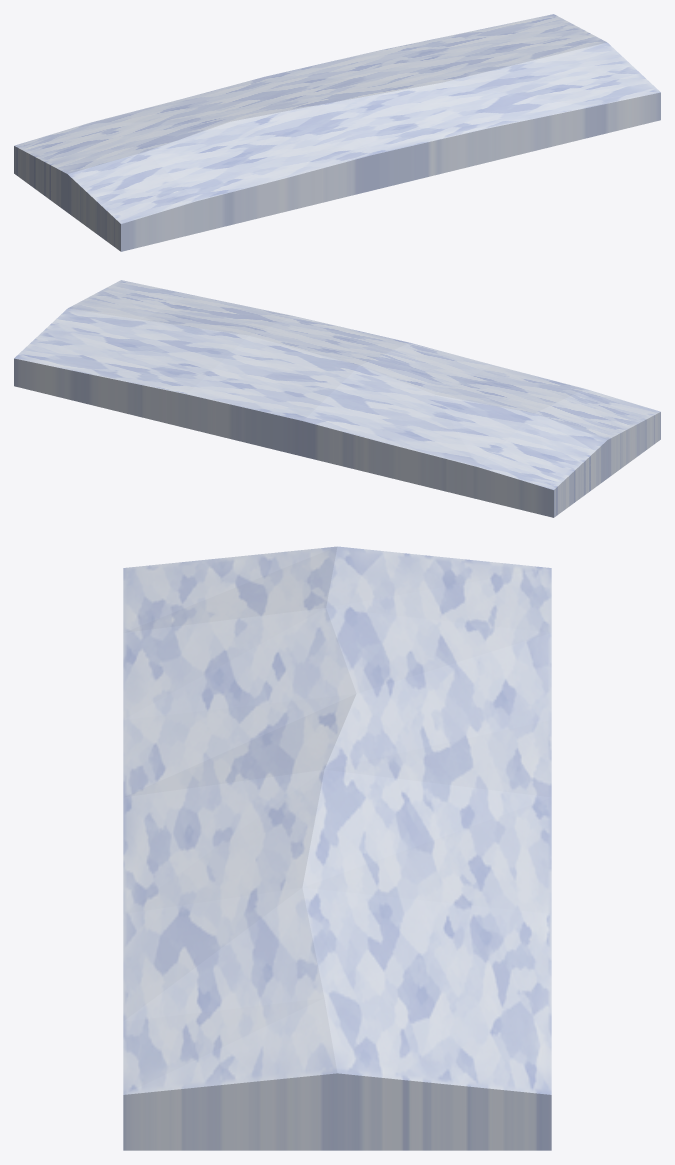
The model's file is snow_door_overhang.glb.
3 views of the same model, one above another, from view 1: azimuth 30°, elevation 25°; view 2: azimuth 150°, elevation 25°; view 3: azimuth 270°, elevation 25° (orthographic). The views are drawn at different scales.
Visible parts, largest first — view 1: winter_snow_door_overhang; view 2: winter_snow_door_overhang; view 3: winter_snow_door_overhang.
Part boxes in pixels (<box>): winter_snow_door_overhang: <box>14,14,660,251</box>; winter_snow_door_overhang: <box>14,280,660,517</box>; winter_snow_door_overhang: <box>123,546,551,1150</box>.
Bounding box in the file's own units: 1.6 × 0.14 × 0.55.
Materials: 1 (1 with a texture image).
